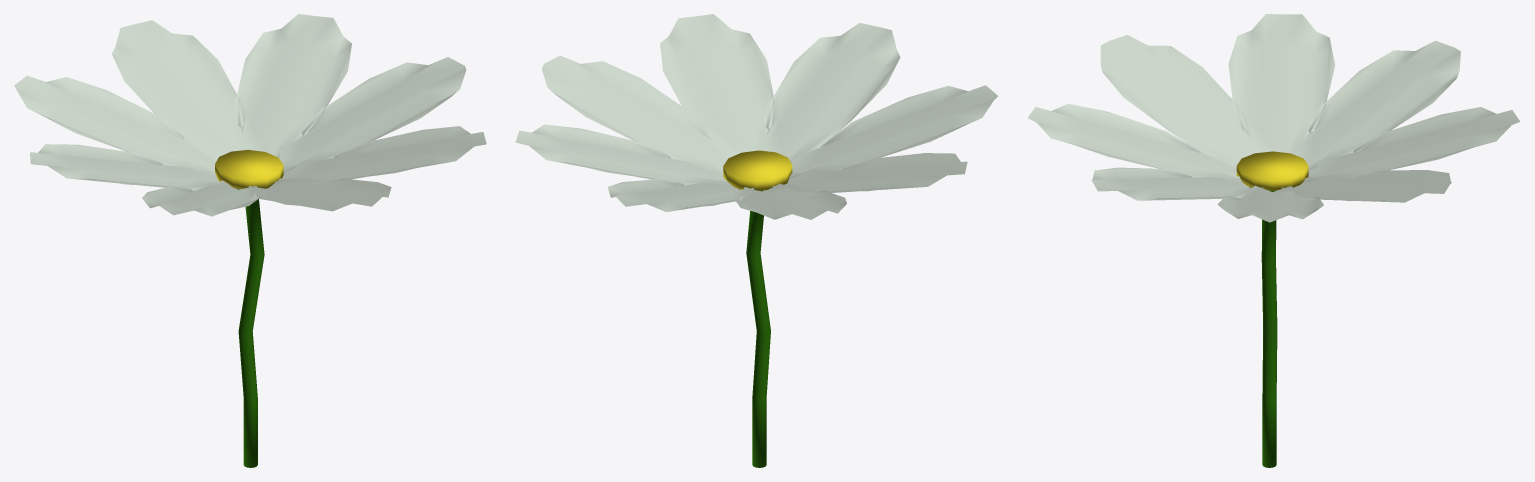
The model's file is flower.fbx.
3 renders of one model, left to right at view 1: azimuth 30°, elevation 25°; view 2: azimuth 150°, elevation 25°; view 3: azimuth 270°, elevation 25°, orthographic.
Visible parts, largest first — view 1: Pedals, Circle.001, Round; view 2: Pedals, Circle.001, Round; view 3: Pedals, Circle.001, Round.
Boxes of the visible parts, x1,y1,x2,y2 form: Pedals: (14,14,486,216); Circle.001: (237,189,264,467); Round: (215,149,283,189); Pedals: (515,14,997,219); Circle.001: (746,190,770,467); Round: (723,150,792,190); Pedals: (1028,14,1520,222); Circle.001: (1249,187,1277,467); Round: (1236,151,1308,190).
Bounding box in the file's own units: 517 × 406 × 517.
